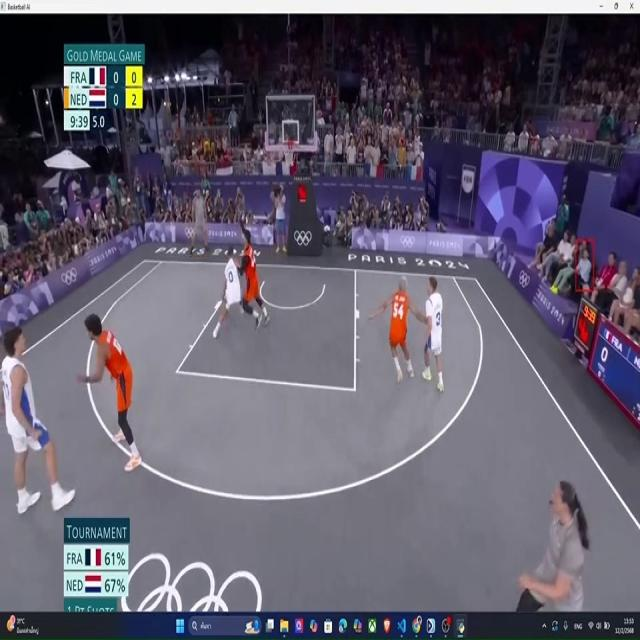hoop: (282, 140, 296, 166)
